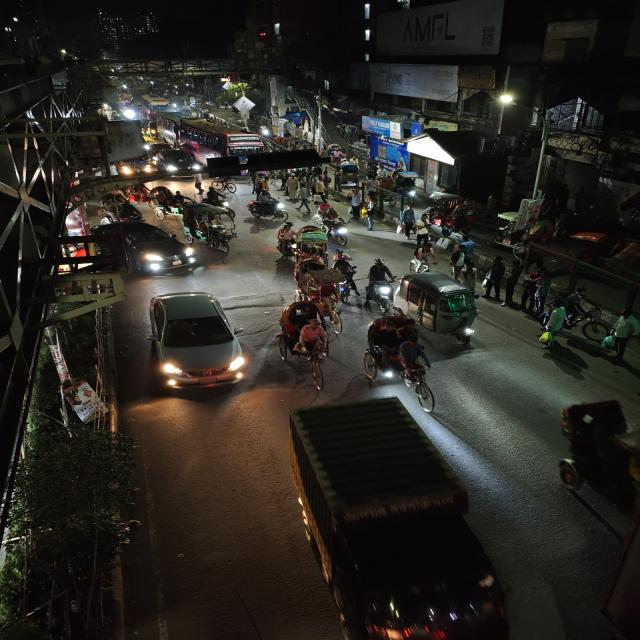bicycle: (210, 179, 238, 193)
bus: (176, 117, 261, 163)
car: (142, 288, 249, 396), (112, 222, 198, 276), (153, 148, 201, 177), (116, 153, 154, 178)
cng: (400, 270, 483, 344)
motorcycle: (362, 256, 396, 308), (245, 192, 289, 228), (321, 209, 352, 244), (335, 253, 358, 294)
pedestrian: (536, 299, 573, 352), (608, 308, 639, 362), (518, 270, 546, 316), (499, 258, 526, 304), (481, 256, 508, 300), (410, 234, 436, 272), (396, 204, 417, 240), (448, 244, 470, 278), (414, 223, 434, 259), (293, 184, 314, 216), (346, 189, 366, 221), (361, 203, 378, 231), (192, 176, 205, 194)
rickshaw: (359, 313, 441, 412), (272, 298, 335, 387), (182, 202, 240, 254), (295, 258, 343, 314), (143, 186, 190, 218), (296, 224, 330, 260)
truck: (280, 400, 523, 640)
